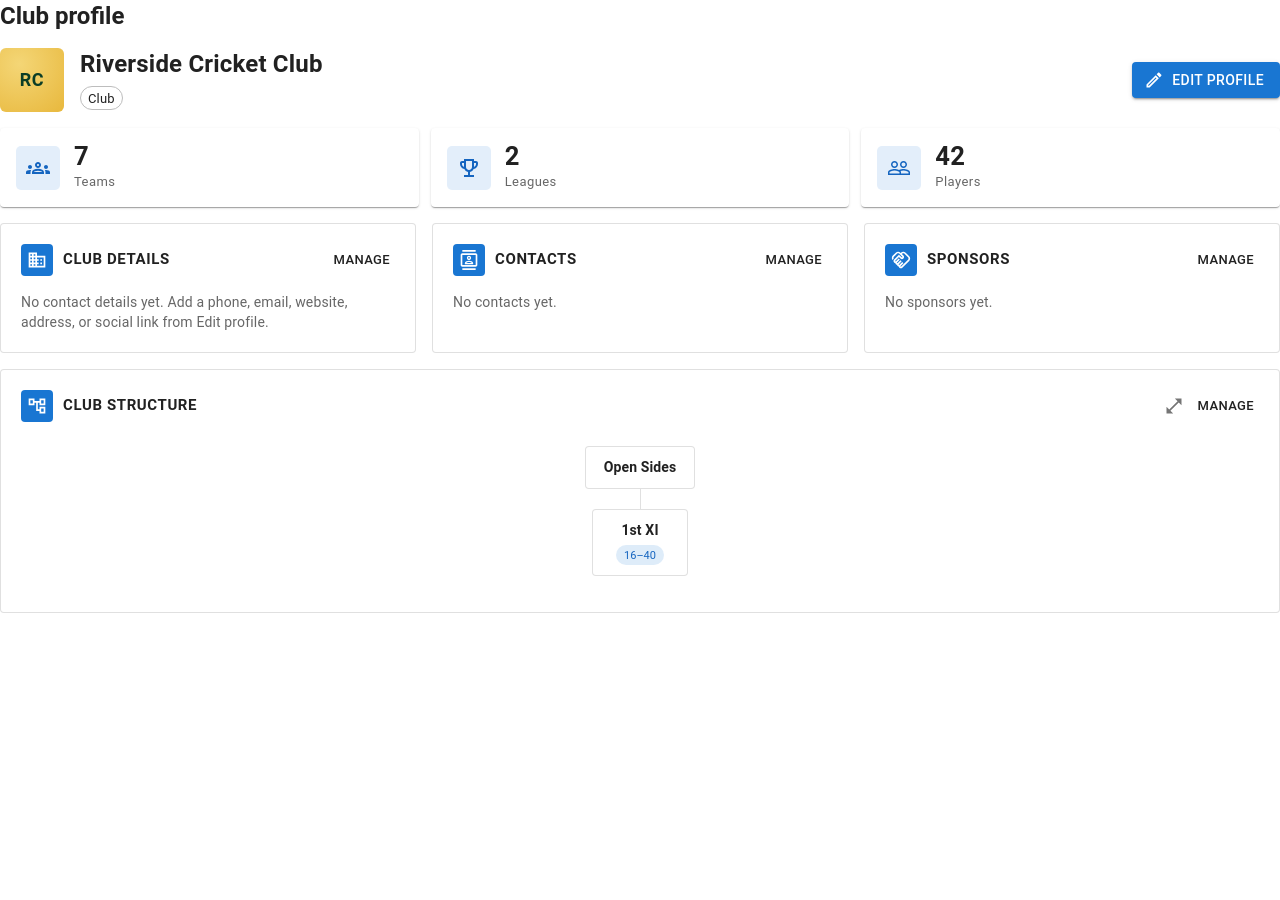
Test: ClubOverviewPage › expanded club structure › selecting a node opens the drawer over the overlay; closing the drawer keeps the overlay
The width and height of the screenshot is (1280, 900).
Click the button named "Expand club structure" at (1174, 406), box [1158,391,1188,421]
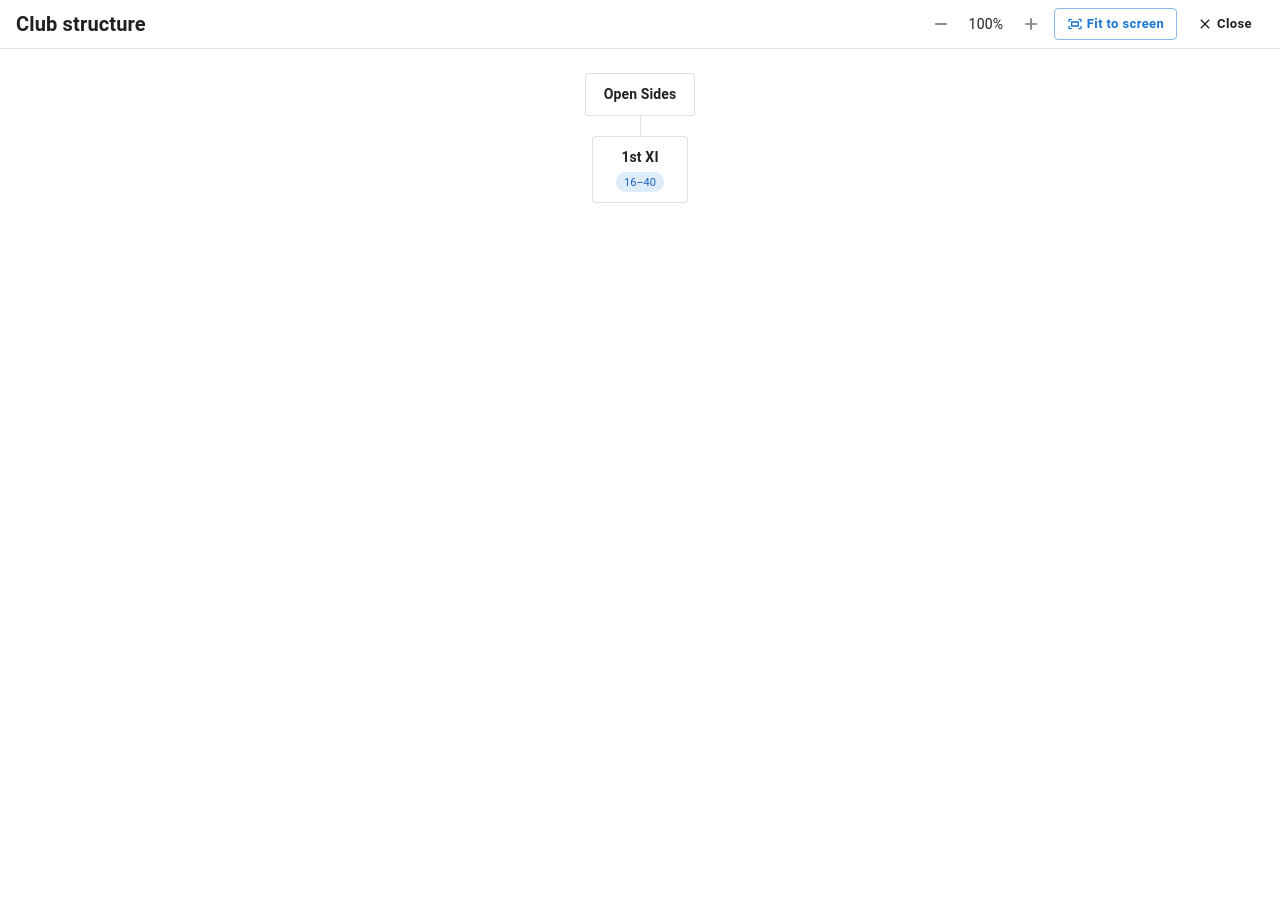
Click the button "1st XI 16–40" at (640, 170), box [592,136,688,203]
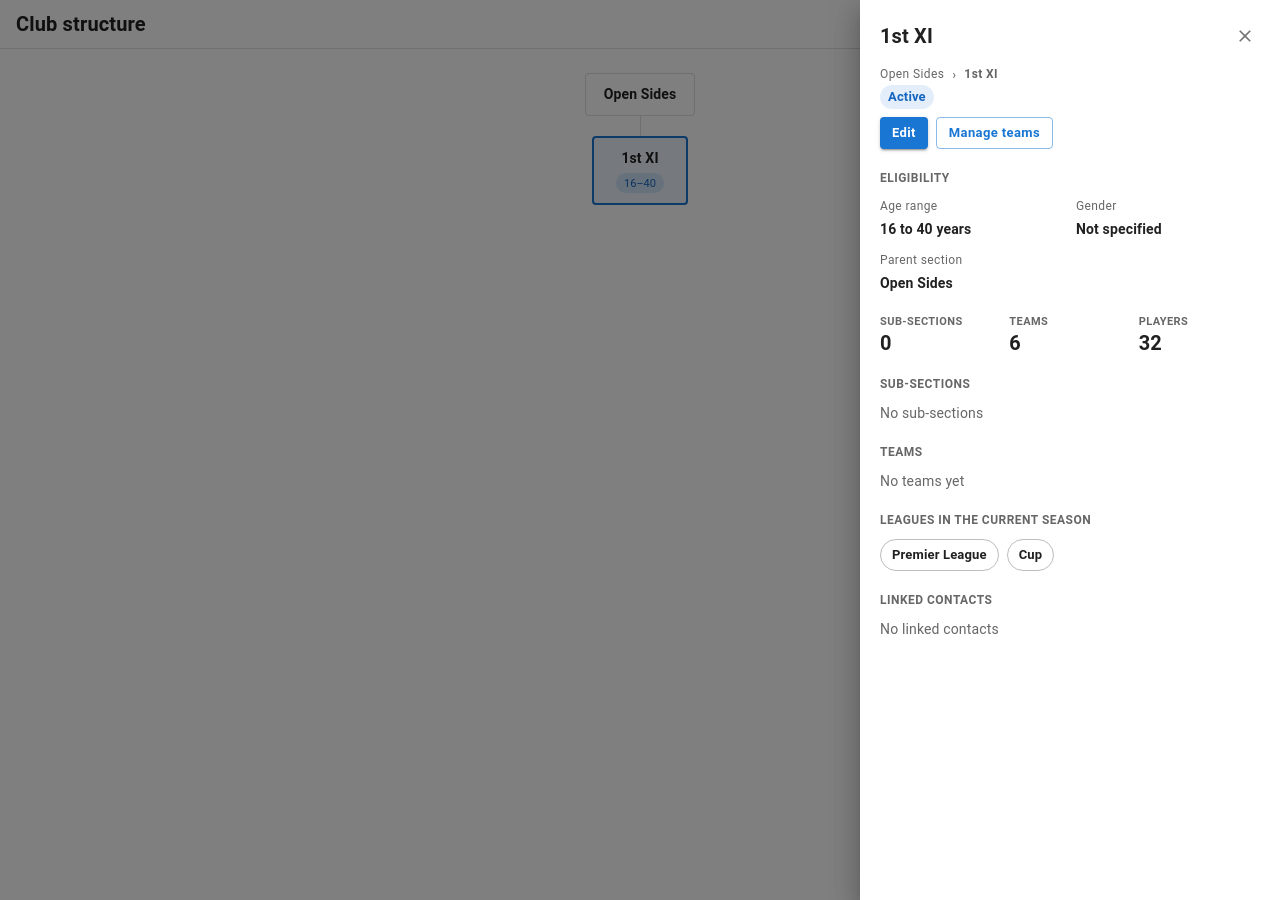
Result: the element with test id "section-info-panel" is shown at [880,67,1188,637]
Click the button named "Close section details" at (1245, 36), box [1230,21,1260,51]
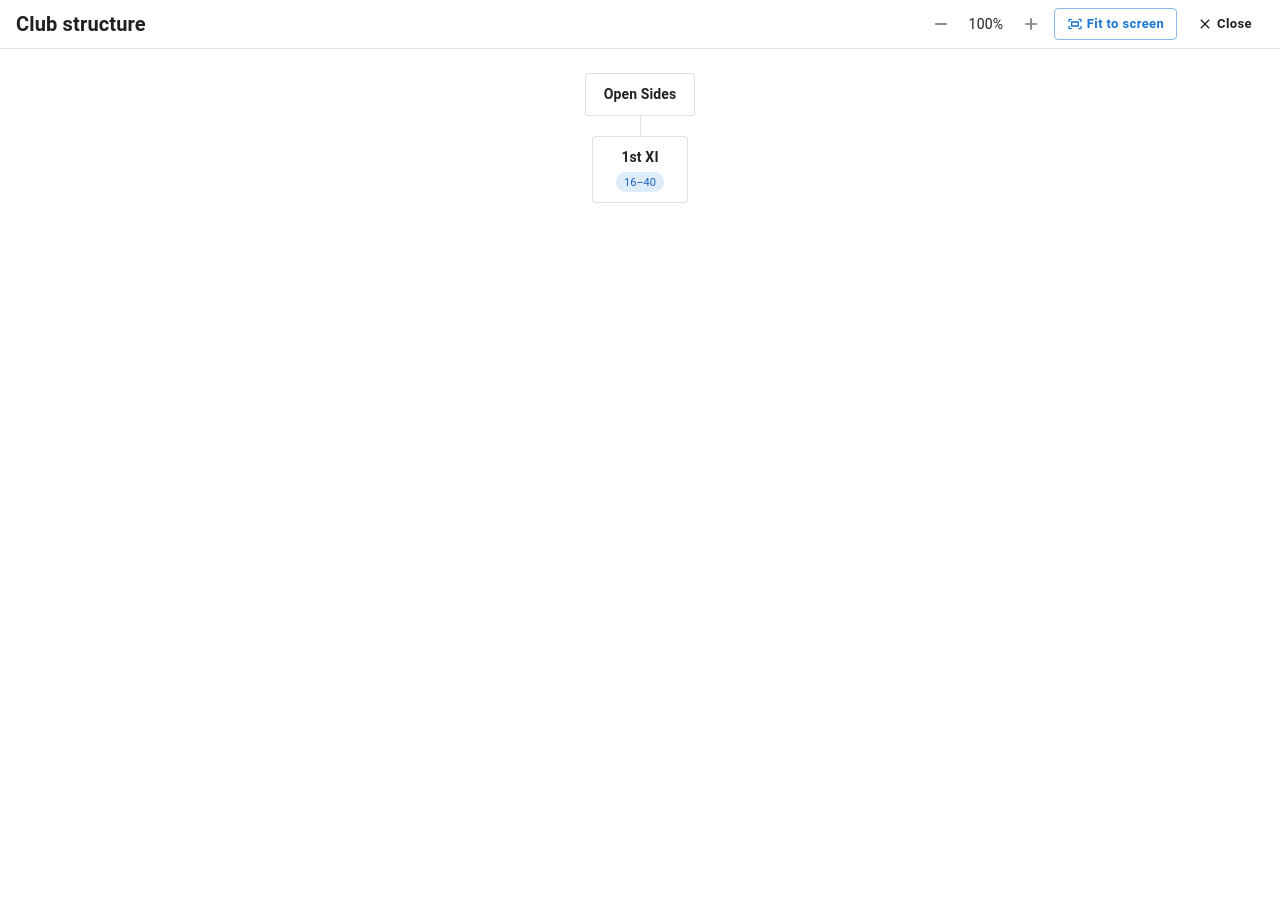
Result: the dialog "Club structure" is shown
Result: the element with test id "section-info-panel" is gone
